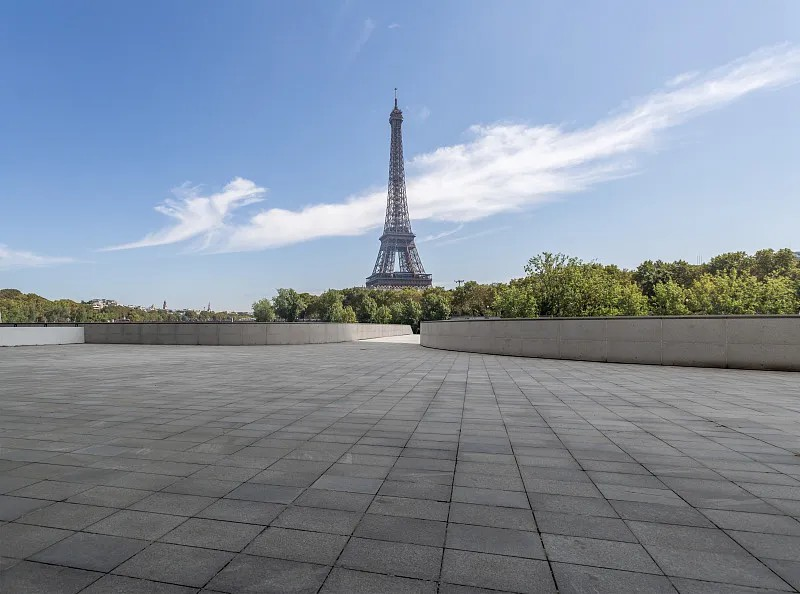Eiffel: (365, 86, 433, 294)
